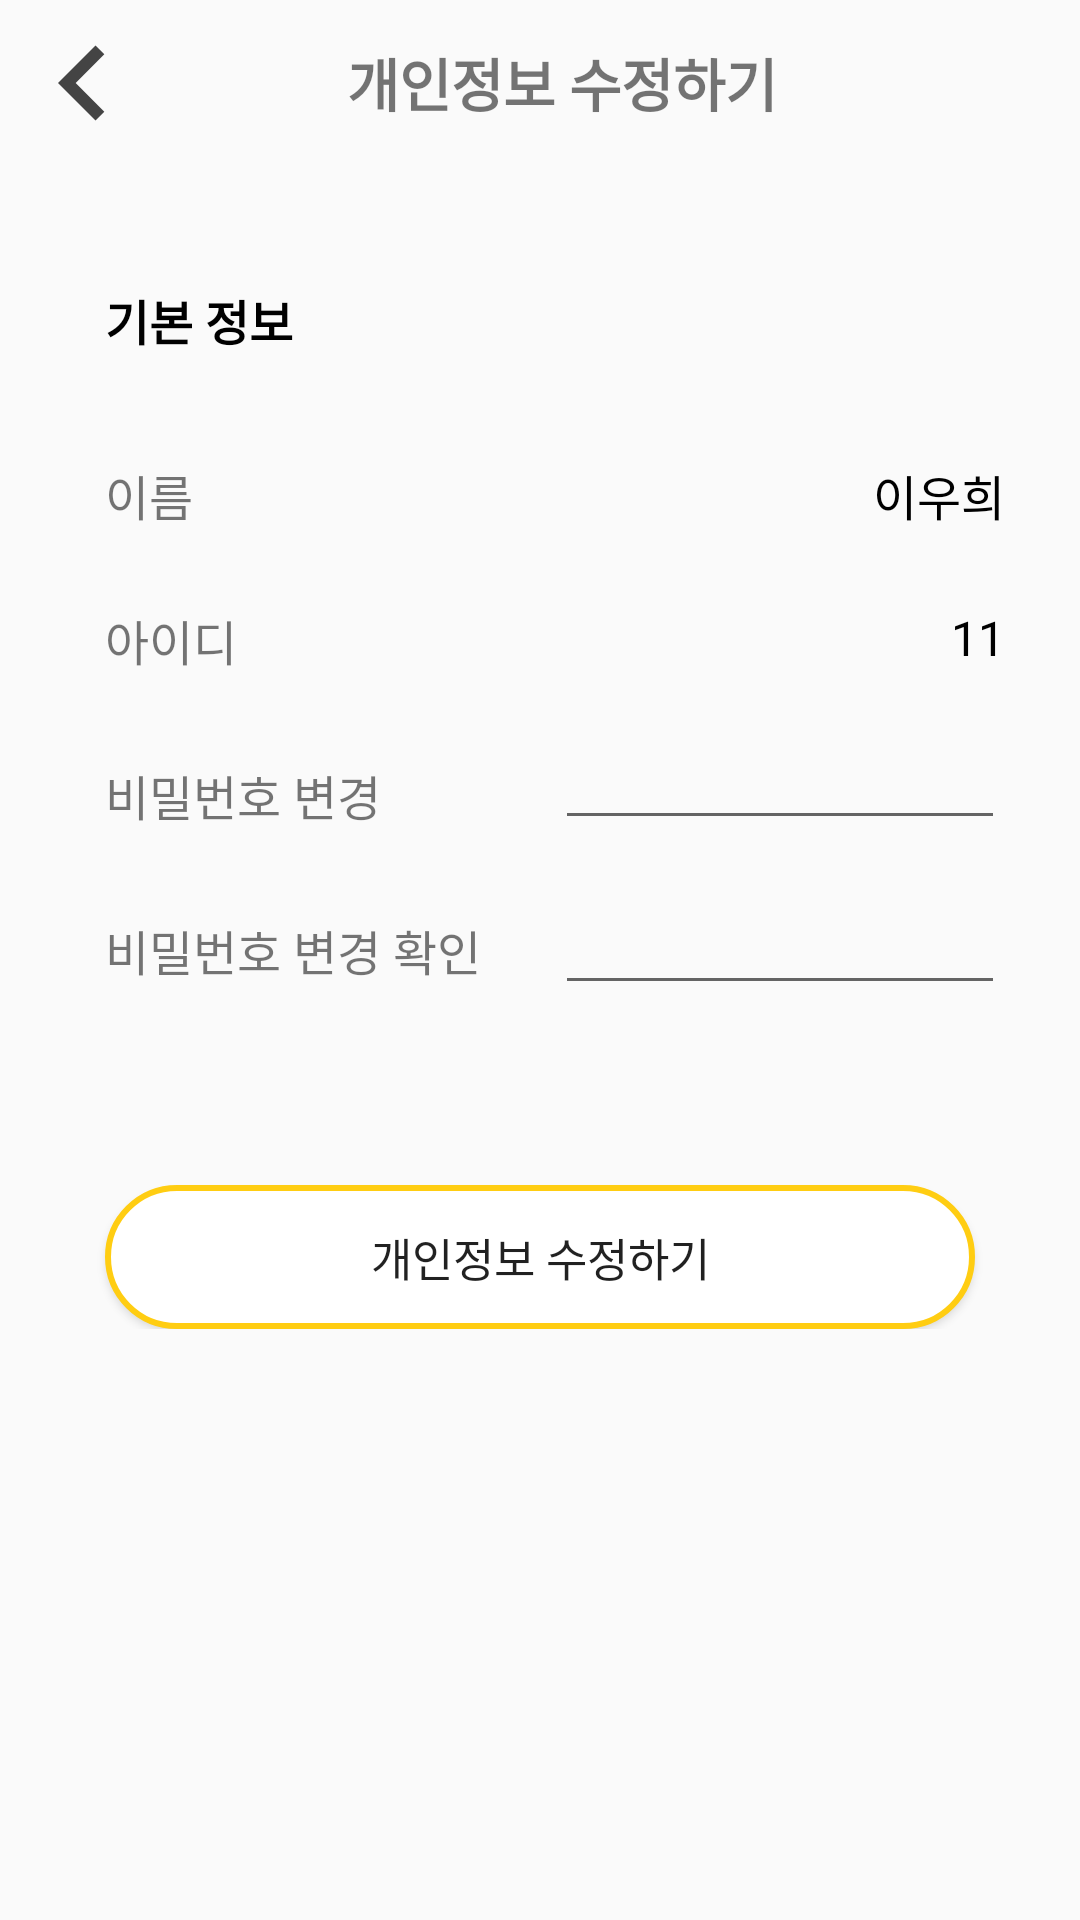

Where icons sit on this 1080*1920 app screen, as (x1, y1, x2, y2):
backbutton: (58, 45, 104, 121)
